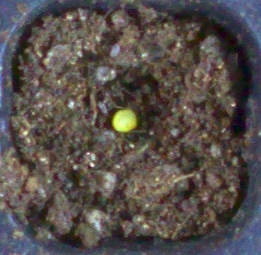pepper seed: (43, 43, 180, 176)
